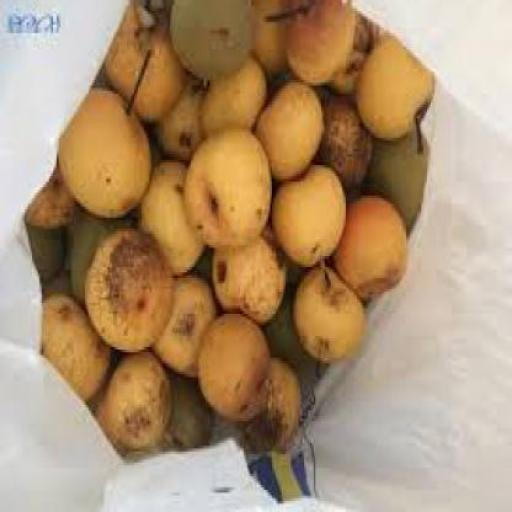biodegradable: (58, 90, 154, 224), (87, 232, 178, 360), (105, 2, 189, 130), (188, 132, 274, 253), (358, 34, 436, 156), (142, 160, 210, 281), (42, 295, 113, 410), (198, 319, 275, 424), (213, 226, 289, 328), (332, 201, 410, 300), (256, 80, 326, 185), (233, 358, 304, 460), (276, 168, 348, 266), (174, 3, 254, 91), (295, 267, 366, 366), (154, 278, 221, 380), (370, 140, 432, 242), (72, 220, 140, 312), (285, 2, 355, 88), (112, 358, 174, 454), (199, 55, 270, 135), (322, 99, 376, 193), (152, 79, 206, 168), (330, 19, 384, 102), (270, 294, 321, 380), (162, 380, 213, 454), (251, 3, 295, 79), (28, 174, 78, 232), (28, 225, 68, 292), (94, 396, 121, 454), (196, 250, 216, 292)
